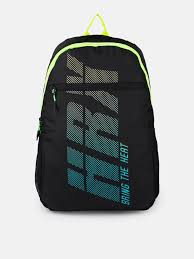backpack: (34, 13, 160, 211)
